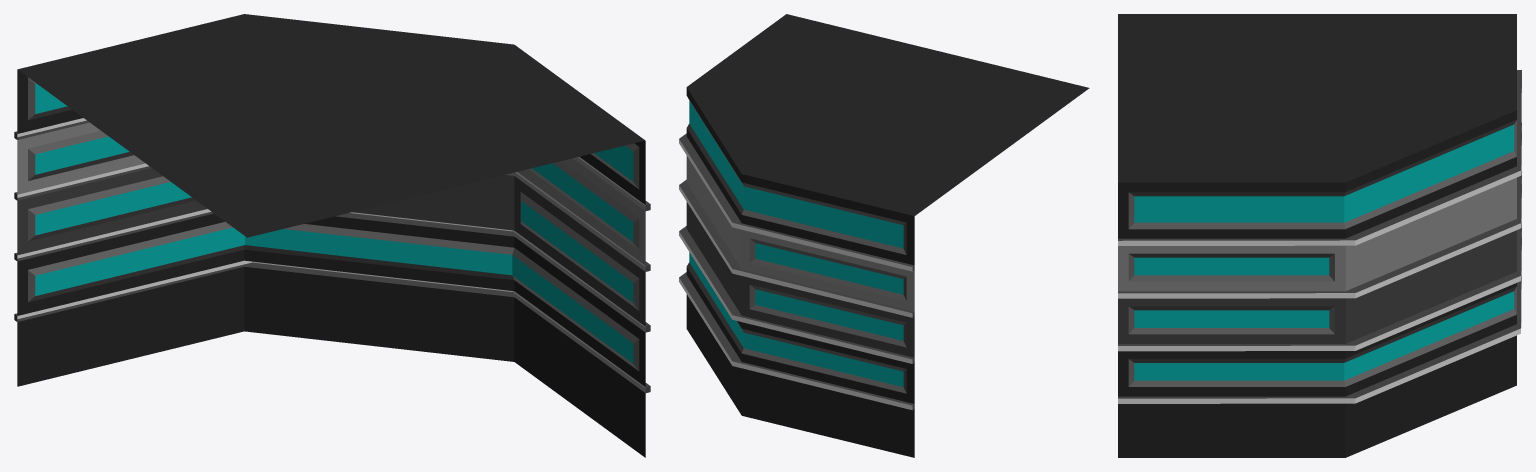
The model's file is MallCorner1.fbx.
3 renders of one model, left to right at view 1: azimuth 30°, elevation 25°; view 2: azimuth 150°, elevation 25°; view 3: azimuth 270°, elevation 25°, orthographic. The views are drawn at different scales.
Visible parts, largest first — view 1: MallCorner1; view 2: MallCorner1; view 3: MallCorner1.
Part boxes in pixels (box(x1,y1,x2,y2)): MallCorner1: box(14, 14, 650, 457); MallCorner1: box(679, 14, 1089, 457); MallCorner1: box(1118, 14, 1521, 457).
Bounding box in the file's own units: 203 × 152 × 203.
